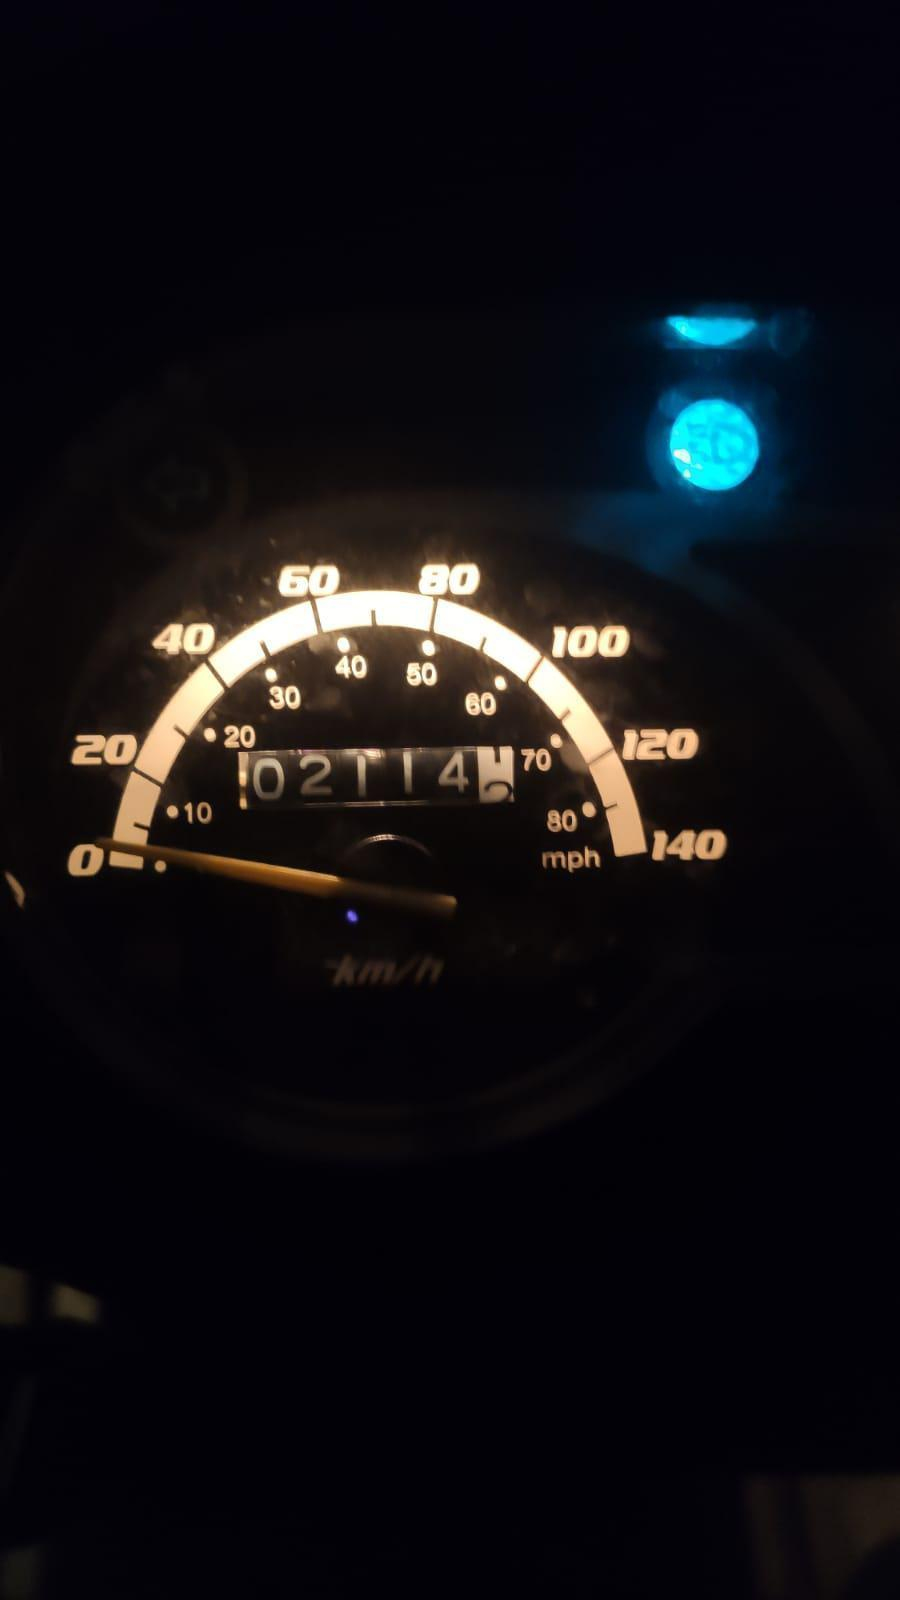0: (251, 757, 290, 803)
1: (349, 749, 375, 800), (399, 747, 420, 795)
2: (298, 751, 335, 798), (481, 773, 516, 809)
4: (435, 749, 473, 796)
odometer: (233, 742, 519, 812)
